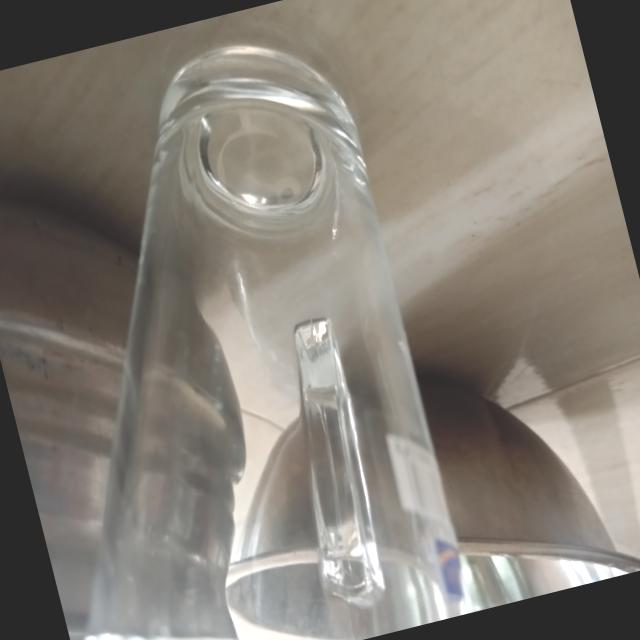glass-VX4N: (0, 17, 477, 640)
